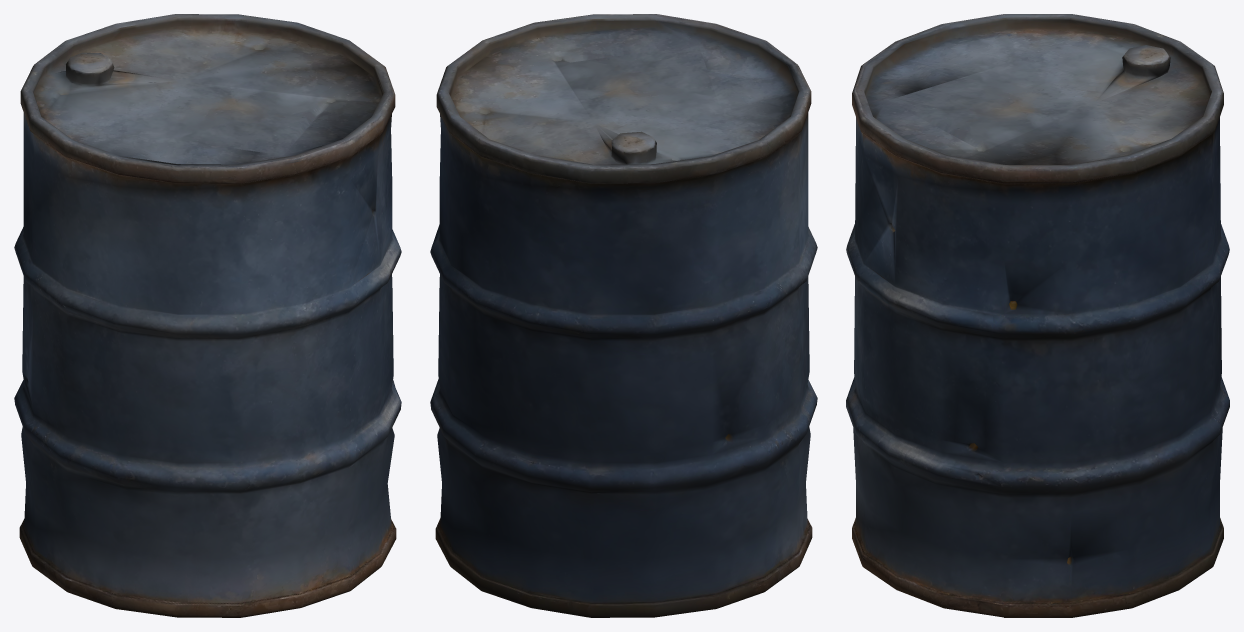
The model's file is steel_drum_01.fbx.
3 renders of one model, left to right at view 1: azimuth 30°, elevation 25°; view 2: azimuth 150°, elevation 25°; view 3: azimuth 270°, elevation 25°, orthographic.
Parts seen in each view (by area): view 1: tripo_node_3dae0078; view 2: tripo_node_3dae0078; view 3: tripo_node_3dae0078.
Boxes of the visible parts, x1,y1,x2,y2 form: tripo_node_3dae0078: (14, 14, 401, 617); tripo_node_3dae0078: (430, 14, 817, 617); tripo_node_3dae0078: (846, 14, 1229, 617).
Bounding box in the file's own units: 0.7573 × 1 × 0.7613.
Materials: 1 (1 with a texture image).
